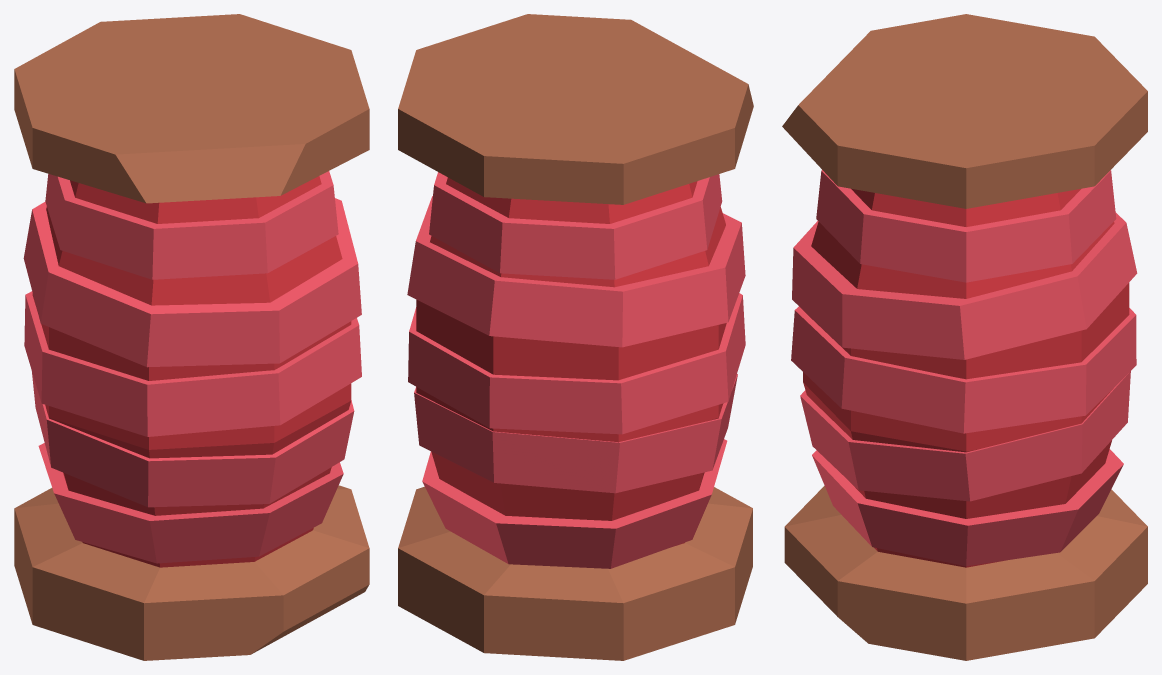
File: Thread 01.fbx
3 views of the same model, side by side, from view 1: azimuth 30°, elevation 25°; view 2: azimuth 150°, elevation 25°; view 3: azimuth 270°, elevation 25° (orthographic).
Parts seen in each view (by area): view 1: Thread 01; view 2: Thread 01; view 3: Thread 01.
Boxes of the visible parts, <box> form: Thread 01: <box>14,14,369,660</box>; Thread 01: <box>398,14,753,660</box>; Thread 01: <box>782,14,1147,660</box>.
Bounding box in the file's own units: 33.24 × 49.53 × 33.34.
